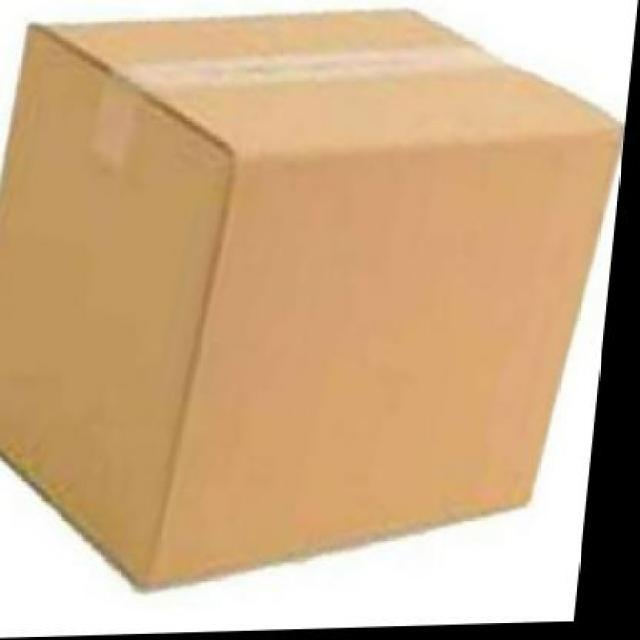box: (0, 6, 634, 596)
